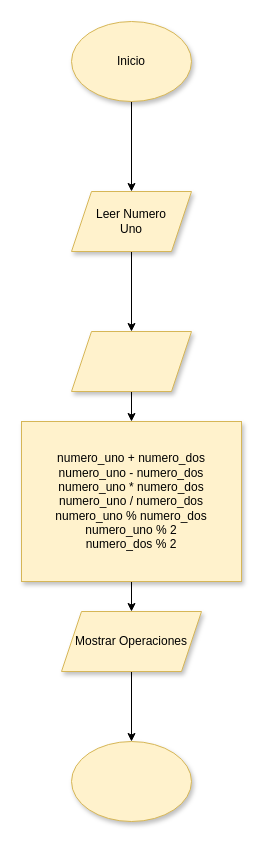
Some shapes in this 265 by 846 pixel diagram are drawn without their labels. Each missing label, with the centre of its shape:
Fin: (132,782)
Leer Numero dos: (132,362)
